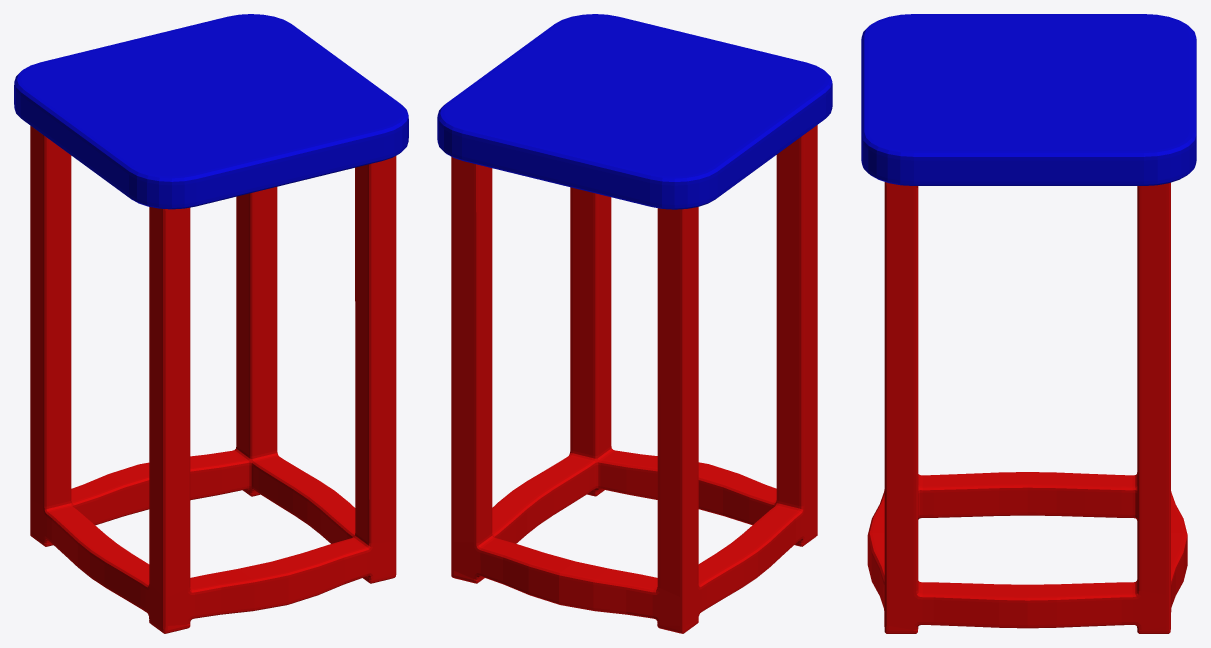
Rendered from mv_CouchTableE.fbx.
The picture shows the model from 3 angles, left to right: view 1: azimuth 30°, elevation 25°; view 2: azimuth 150°, elevation 25°; view 3: azimuth 270°, elevation 25°; orthographic projection. The views are drawn at different scales.
Parts seen in each view (by area): view 1: CouchTableE_LOD0; view 2: CouchTableE_LOD0; view 3: CouchTableE_LOD0.
Boxes of the visible parts, left/top/right/bottom form: CouchTableE_LOD0: left=14, top=14, right=408, bottom=633; CouchTableE_LOD0: left=437, top=14, right=832, bottom=633; CouchTableE_LOD0: left=861, top=14, right=1196, bottom=633.
Size of what is drawn, in the model's own units: 39.81 by 64.26 by 39.81.
